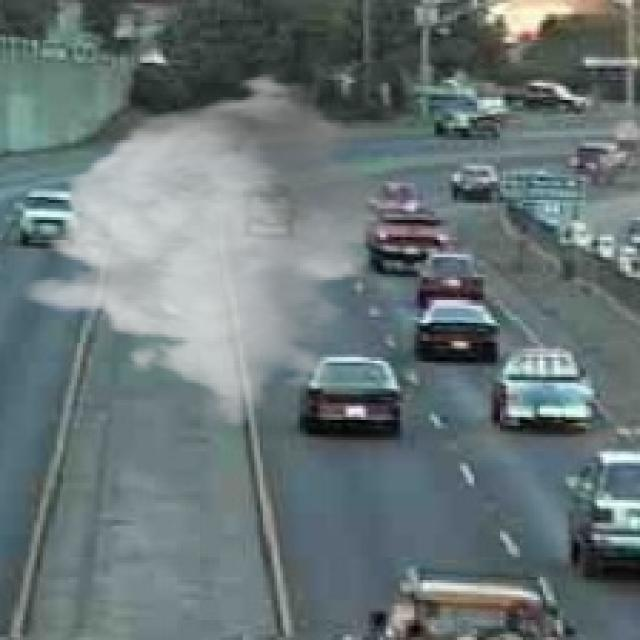smoke: (17, 71, 412, 428)
